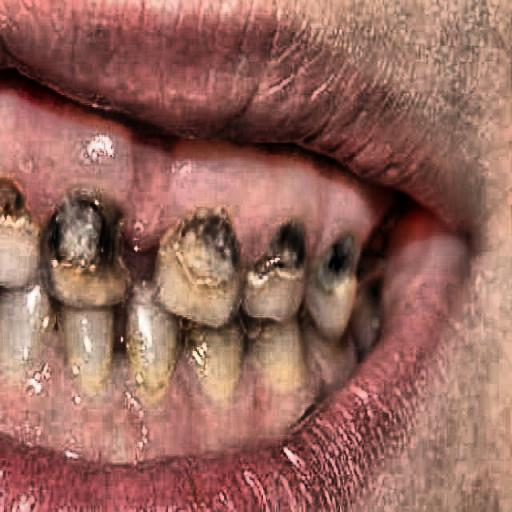Caries: (2, 133, 382, 369)
